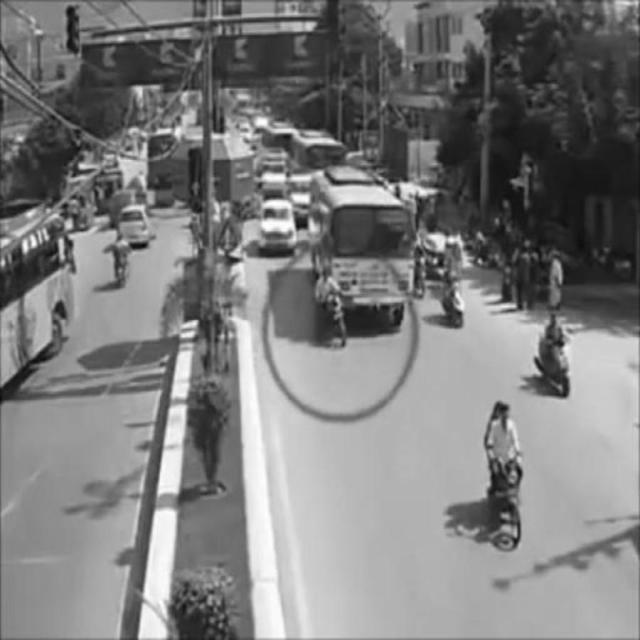accident: (310, 170, 411, 350)
vehicle: (482, 402, 526, 544), (533, 314, 577, 394), (442, 257, 472, 330), (260, 198, 297, 252), (106, 234, 133, 288), (119, 205, 153, 241)
